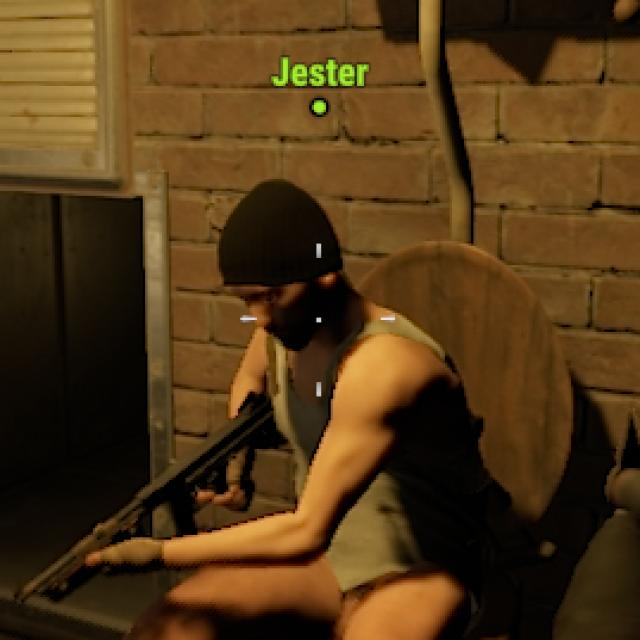Player: (182, 176, 504, 640)
